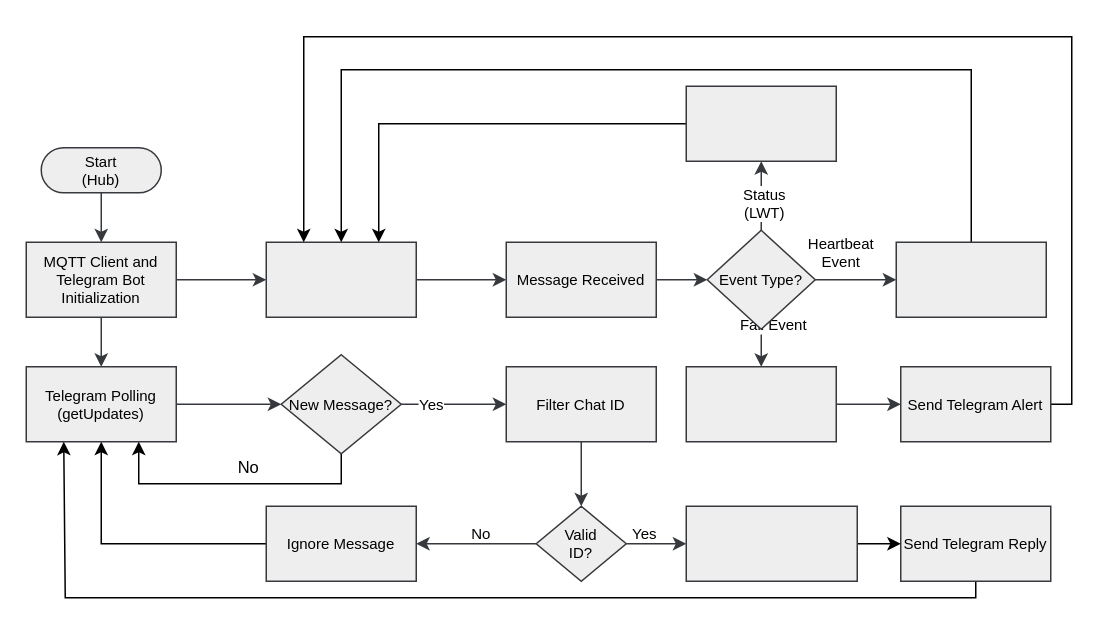
Some shapes in this 1110 by 636 pixel diagram are drawn without their labels. Here are the shapes that lost their labels. From the top down, the centre of each, then its label:
the point at 760,123: Send Offline Alert
the point at 340,279: Wait for MQTT Message
the point at 970,279: Update Timer
the point at 760,403: Call Needle (handle_fall _event)
the point at 771,543: Call Needle (handle_telegram _query)
